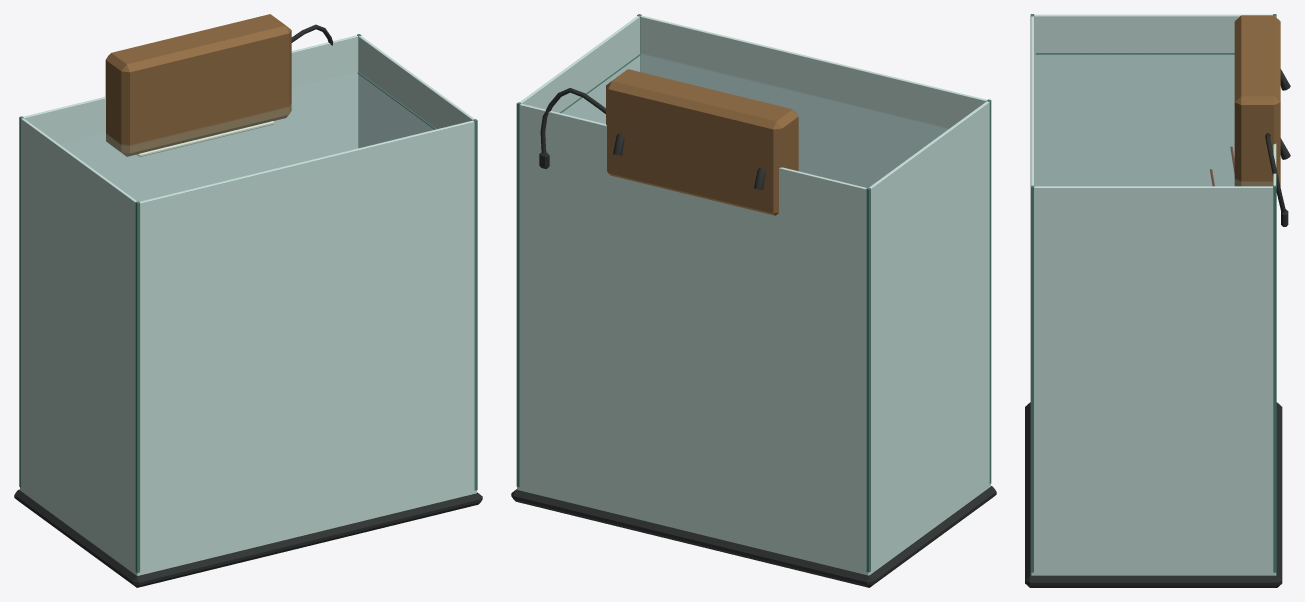
Rendered from A-NEW-20261026-AQUARIUM-001_LOD2_R2.fbx.
3 views of the same model, side by side, from view 1: azimuth 30°, elevation 25°; view 2: azimuth 150°, elevation 25°; view 3: azimuth 270°, elevation 25° (orthographic). The views are drawn at different scales.
Parts seen in each view (by area): view 1: front back glass, side glass, plain upper rear housing, front back glass.001, water surface, side glass.001, aquarium plinth, bottom glass, glass vertical edge seam, glass vertical edge seam.002, glass vertical edge seam.001, underside light face; view 2: front back glass.001, side glass, front back glass, plain upper rear housing, water surface, aquarium plinth, side glass.001, bottom glass, glass vertical edge seam.001, glass vertical edge seam.003, glass vertical edge seam; view 3: side glass.001, side glass, water surface, plain upper rear housing, aquarium plinth, glass vertical edge seam.002, glass vertical edge seam.003, bottom glass, front back glass, short completed cable, side waterline.
Part boxes in pixels (bbox=[...]): front back glass: bbox=[140, 120, 474, 571]; side glass: bbox=[21, 118, 137, 570]; plain upper rear housing: bbox=[105, 14, 291, 156]; front back glass.001: bbox=[23, 35, 358, 201]; water surface: bbox=[61, 73, 433, 201]; side glass.001: bbox=[358, 36, 474, 148]; aquarium plinth: bbox=[14, 489, 482, 587]; bottom glass: bbox=[20, 487, 476, 575]; glass vertical edge seam: bbox=[135, 201, 139, 572]; glass vertical edge seam.002: bbox=[473, 119, 477, 490]; glass vertical edge seam.001: bbox=[19, 116, 23, 487]; underside light face: bbox=[136, 121, 274, 156]; front back glass.001: bbox=[519, 103, 866, 570]; side glass: bbox=[869, 101, 989, 569]; front back glass: bbox=[640, 15, 986, 187]; plain upper rear housing: bbox=[606, 69, 798, 215]; water surface: bbox=[562, 54, 947, 187]; aquarium plinth: bbox=[511, 486, 996, 587]; side glass.001: bbox=[519, 16, 639, 124]; bottom glass: bbox=[517, 483, 990, 575]; glass vertical edge seam.001: bbox=[866, 187, 870, 572]; glass vertical edge seam.003: bbox=[516, 102, 521, 487]; glass vertical edge seam: bbox=[987, 99, 991, 483]; side glass.001: bbox=[1034, 186, 1273, 571]; side glass: bbox=[1034, 14, 1272, 186]; water surface: bbox=[1034, 54, 1272, 185]; plain upper rear housing: bbox=[1234, 15, 1280, 186]; aquarium plinth: bbox=[1025, 402, 1282, 587]; glass vertical edge seam.002: bbox=[1030, 185, 1034, 572]; glass vertical edge seam.003: bbox=[1273, 185, 1276, 572]; bottom glass: bbox=[1031, 571, 1276, 575]; front back glass: bbox=[1031, 16, 1033, 185]; short completed cable: bbox=[1265, 133, 1285, 212]; side waterline: bbox=[1035, 53, 1234, 54].
Size of the model in its own units: 51.4 by 60 by 32.46.
